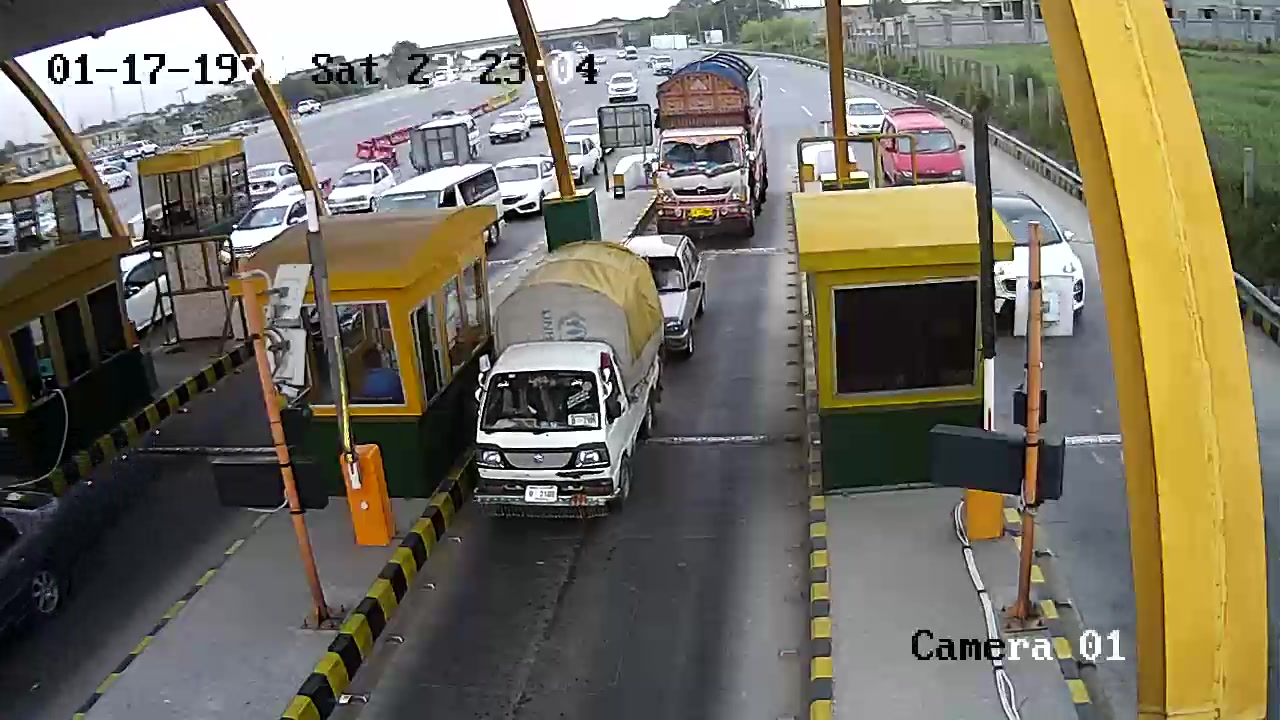F1: (476, 241, 668, 517)
